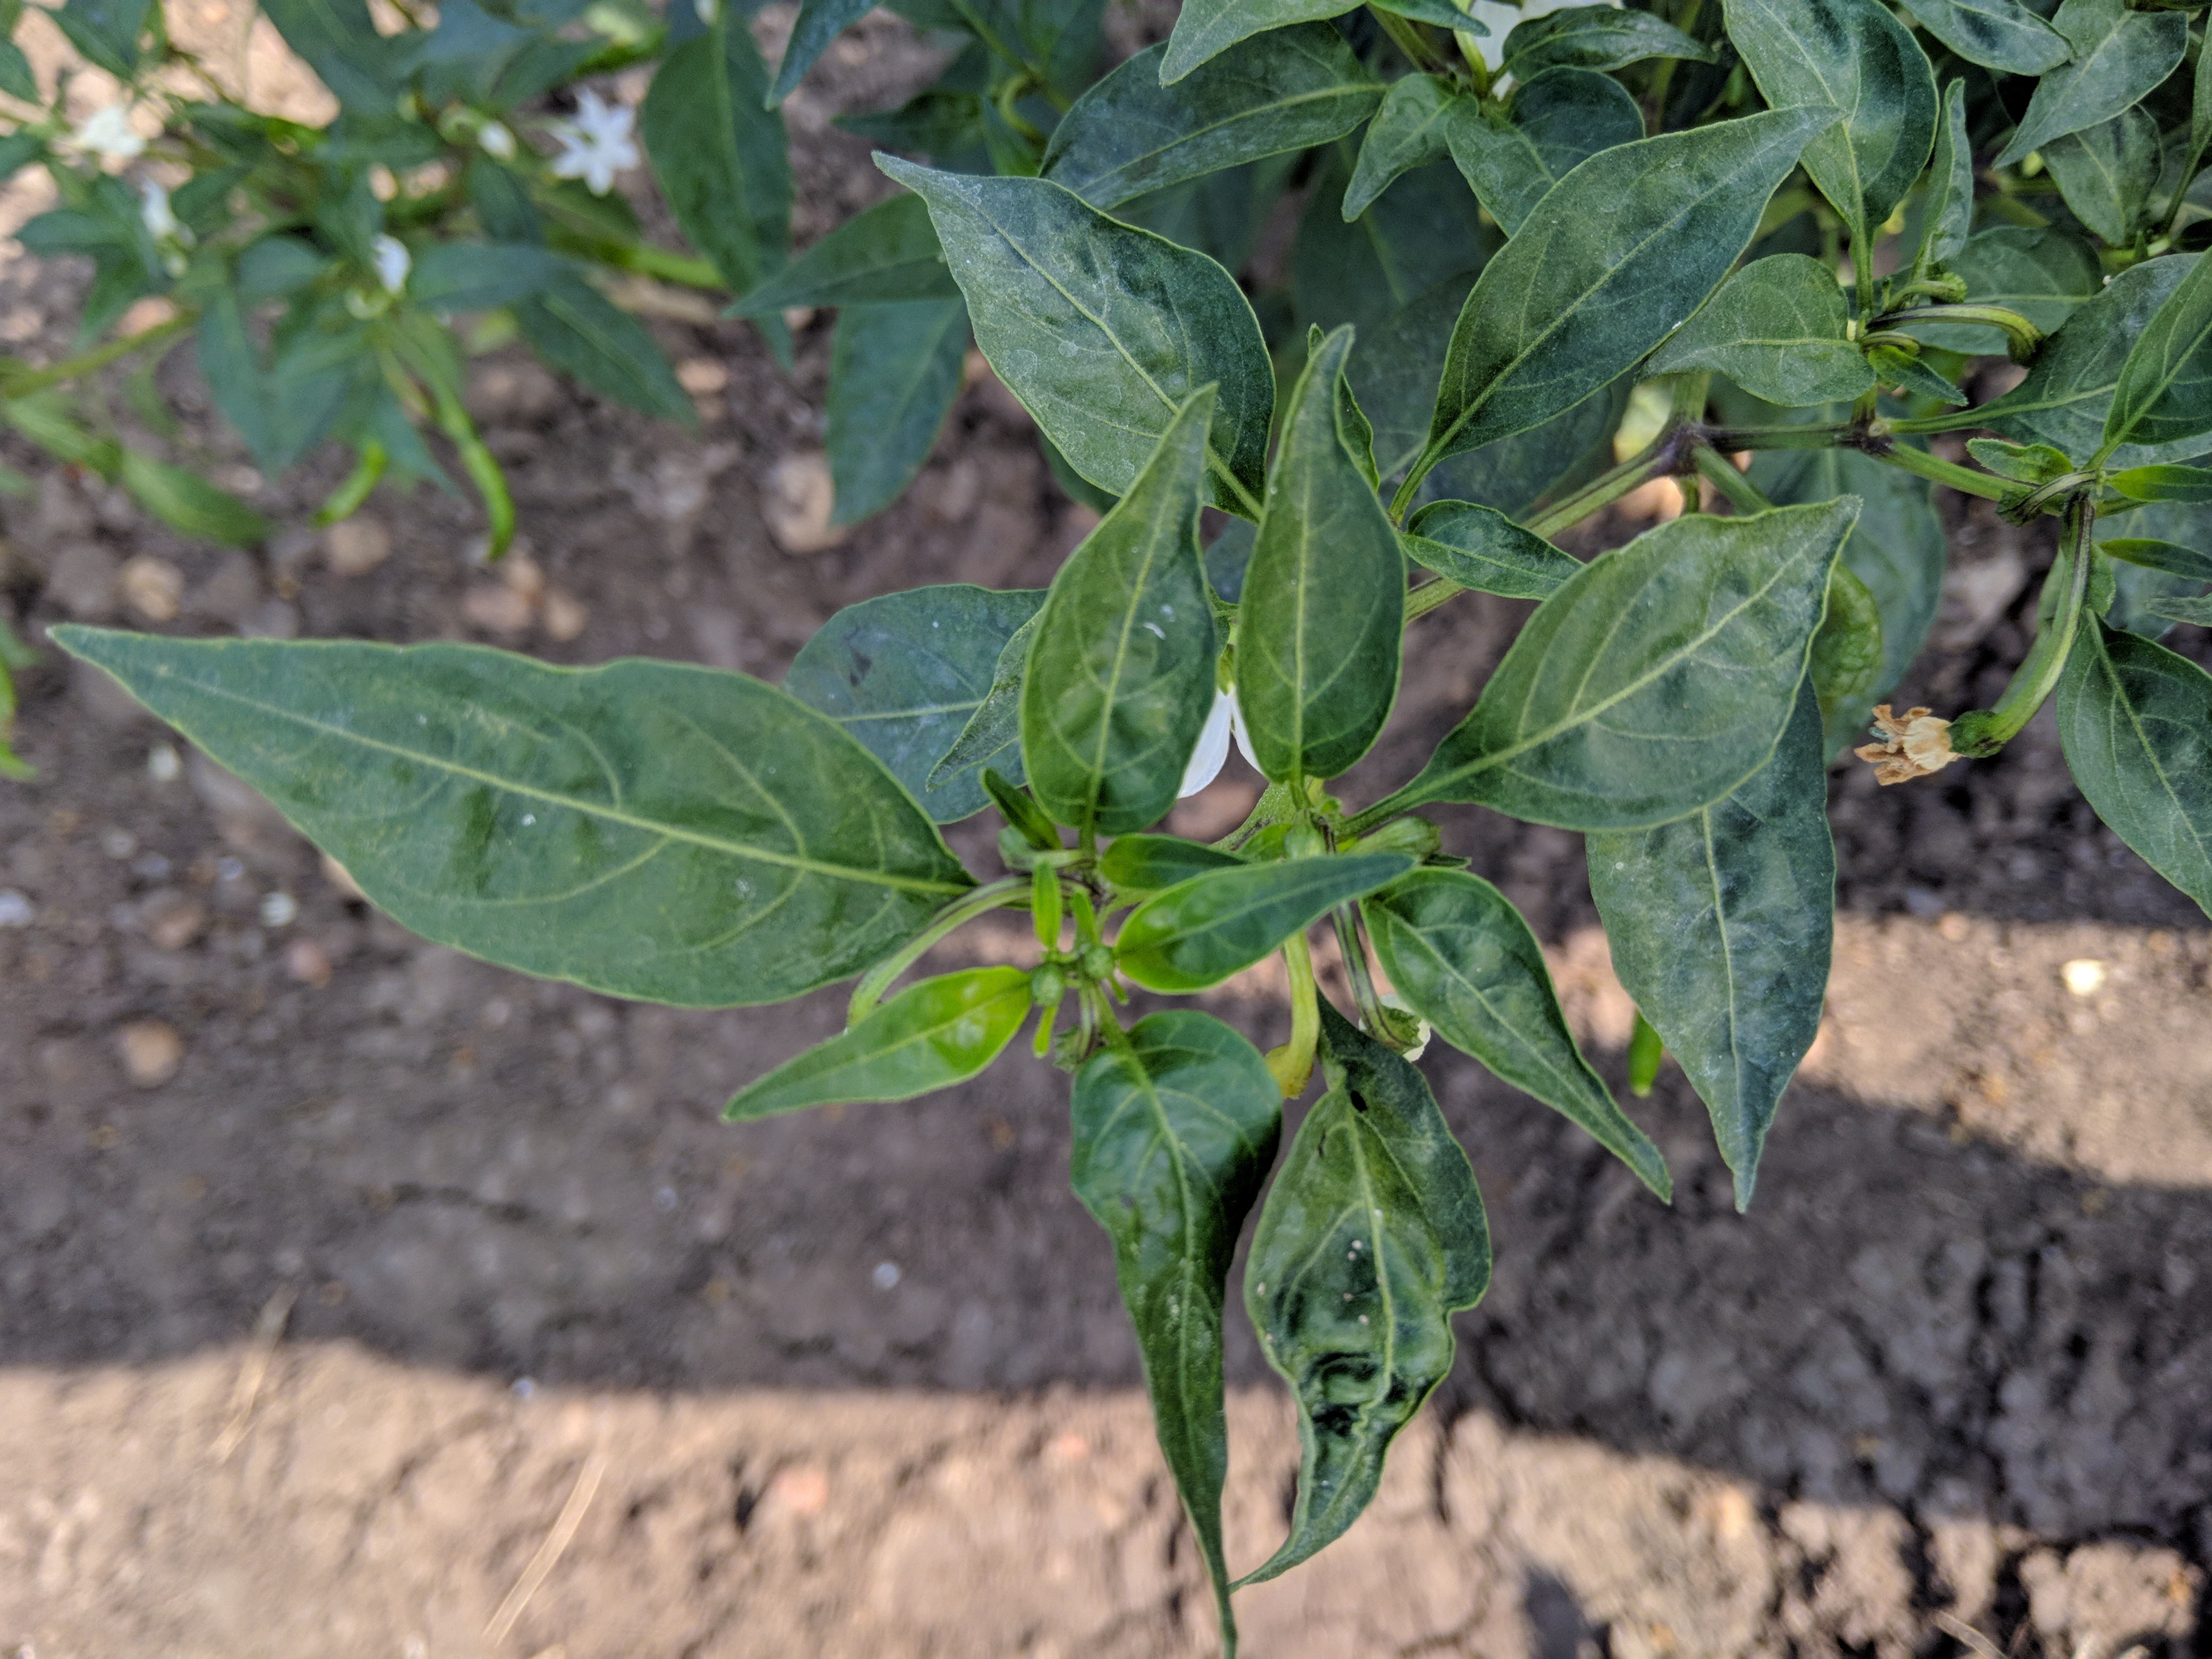mite: (1249, 1002, 1501, 1579), (1066, 1044, 1270, 1647)
